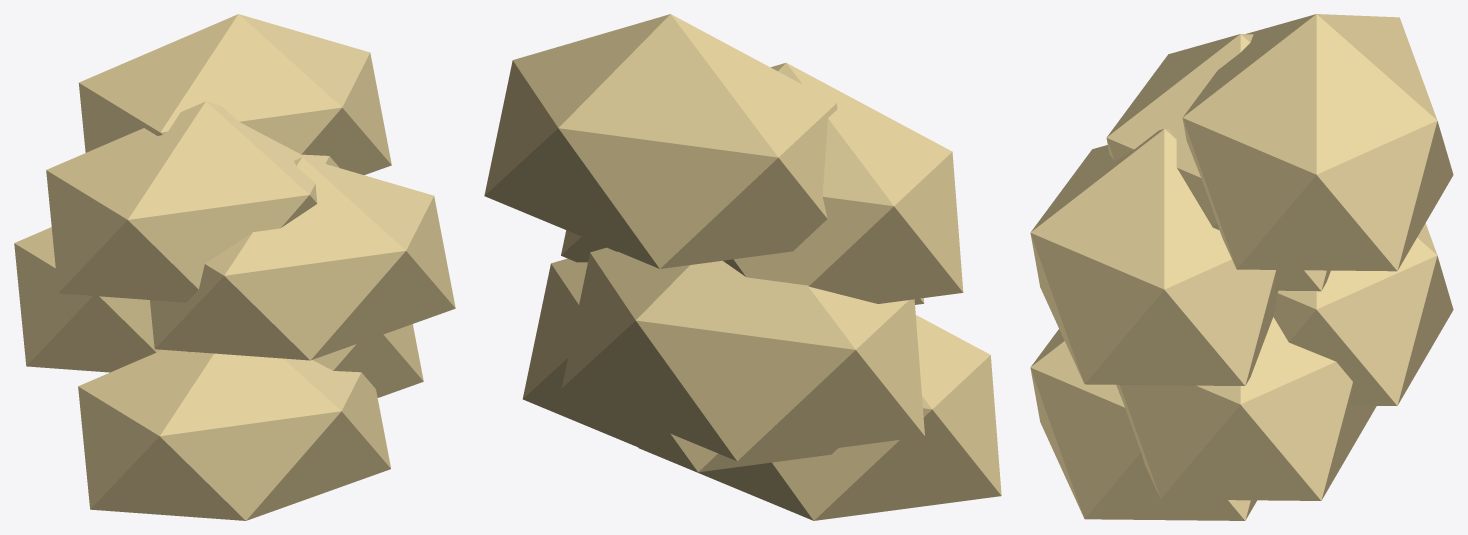
File: item_059_barley_l.glb
The picture shows the model from 3 angles, left to right: view 1: azimuth 30°, elevation 25°; view 2: azimuth 150°, elevation 25°; view 3: azimuth 270°, elevation 25°; orthographic projection. The views are drawn at different scales.
Parts seen in each view (by area): view 1: item_059_barley_l; view 2: item_059_barley_l; view 3: item_059_barley_l.
Boxes of the visible parts, x1,y1,x2,y2 form: item_059_barley_l: (14,14,455,520); item_059_barley_l: (484,14,1001,520); item_059_barley_l: (1030,14,1453,520).
Size of the model in its own units: 0.3732 by 0.4549 by 0.3338.
